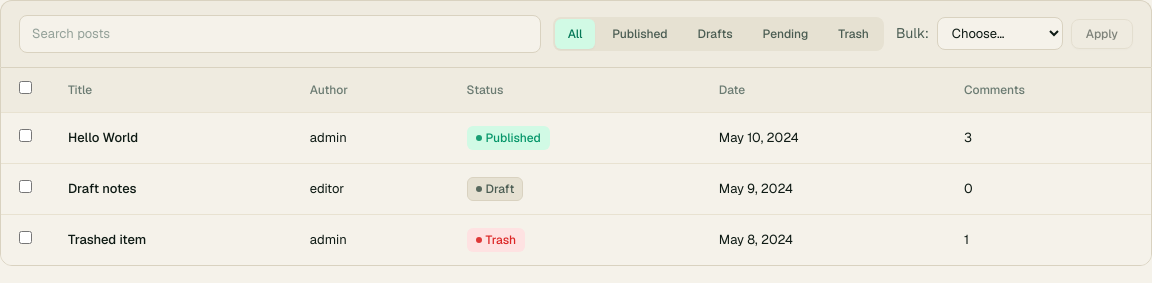
Test case: PostListClient › disables Apply until a bulk action is chosen and a row is selected
The image size is (1152, 283).
Expected: the button "Apply" is disabled, x1=1071 y1=19 x2=1133 y2=49
Select "Move to Trash" in the dropdown labelled "Bulk:": point(1000, 34) x1=937 y1=17 x2=1063 y2=50
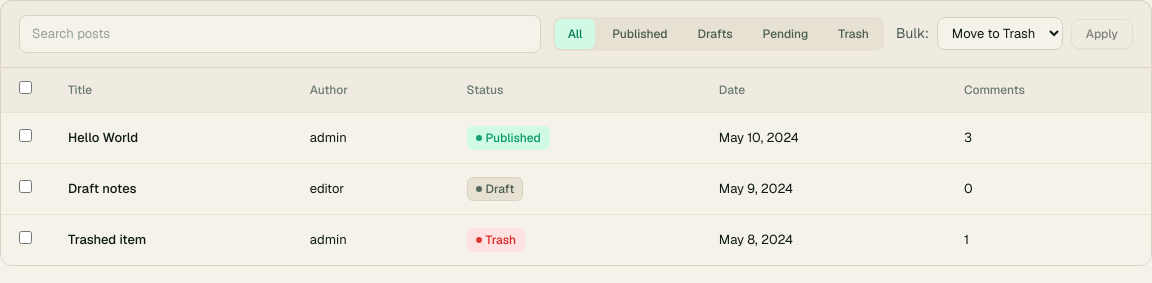
Expected: the button "Apply" is disabled, x1=1071 y1=19 x2=1133 y2=49
Click the checkbox named "Select Hello World": point(26, 135) x1=19 y1=129 x2=32 y2=142
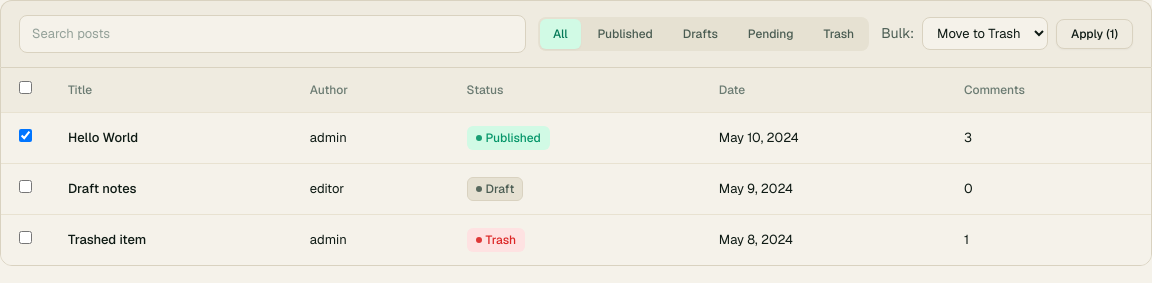
Result: the button "Apply (1)" is enabled at x1=1056 y1=19 x2=1133 y2=49
